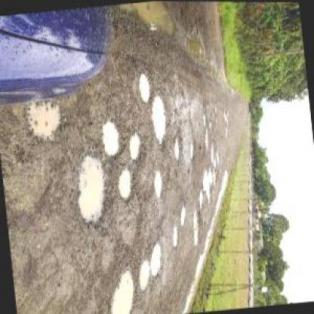Hueco: (72, 152, 113, 226), (23, 97, 65, 143), (100, 119, 123, 158), (151, 95, 168, 146), (146, 241, 166, 277), (126, 132, 145, 162), (116, 169, 135, 199), (135, 260, 152, 292), (138, 72, 154, 104), (192, 211, 204, 245), (202, 169, 214, 202), (151, 170, 165, 198), (172, 133, 184, 162), (179, 203, 189, 226), (171, 226, 180, 248), (198, 189, 206, 210), (189, 141, 197, 160)
